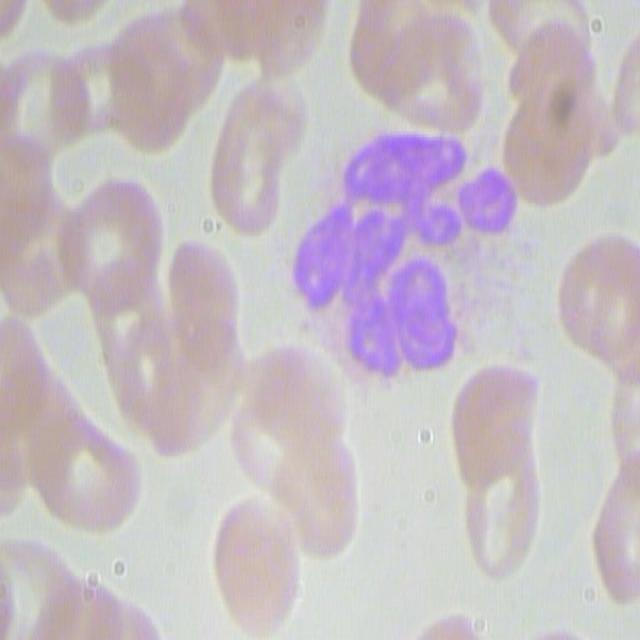RBC: (225, 350, 363, 550), (7, 188, 99, 480), (449, 348, 543, 576), (91, 0, 208, 151), (346, 0, 486, 126), (56, 168, 164, 302), (503, 2, 605, 137), (208, 81, 293, 238), (28, 419, 142, 534), (212, 500, 305, 634), (184, 0, 334, 81), (174, 258, 241, 433), (100, 312, 184, 446), (557, 234, 640, 366), (0, 46, 91, 166), (459, 454, 543, 577), (442, 2, 528, 114), (0, 534, 78, 638), (591, 449, 640, 602), (81, 567, 158, 628)
WBC: (335, 154, 517, 235), (317, 190, 394, 378), (394, 243, 447, 374)
